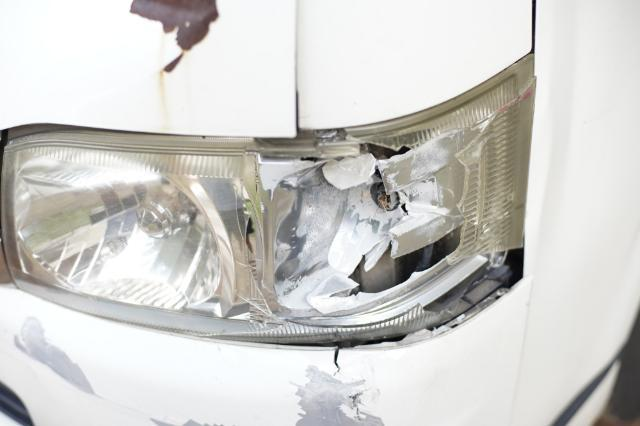crack: (333, 348, 341, 375)
lamp broken: (0, 56, 537, 341)
scratch: (9, 315, 102, 400), (290, 361, 388, 426)
